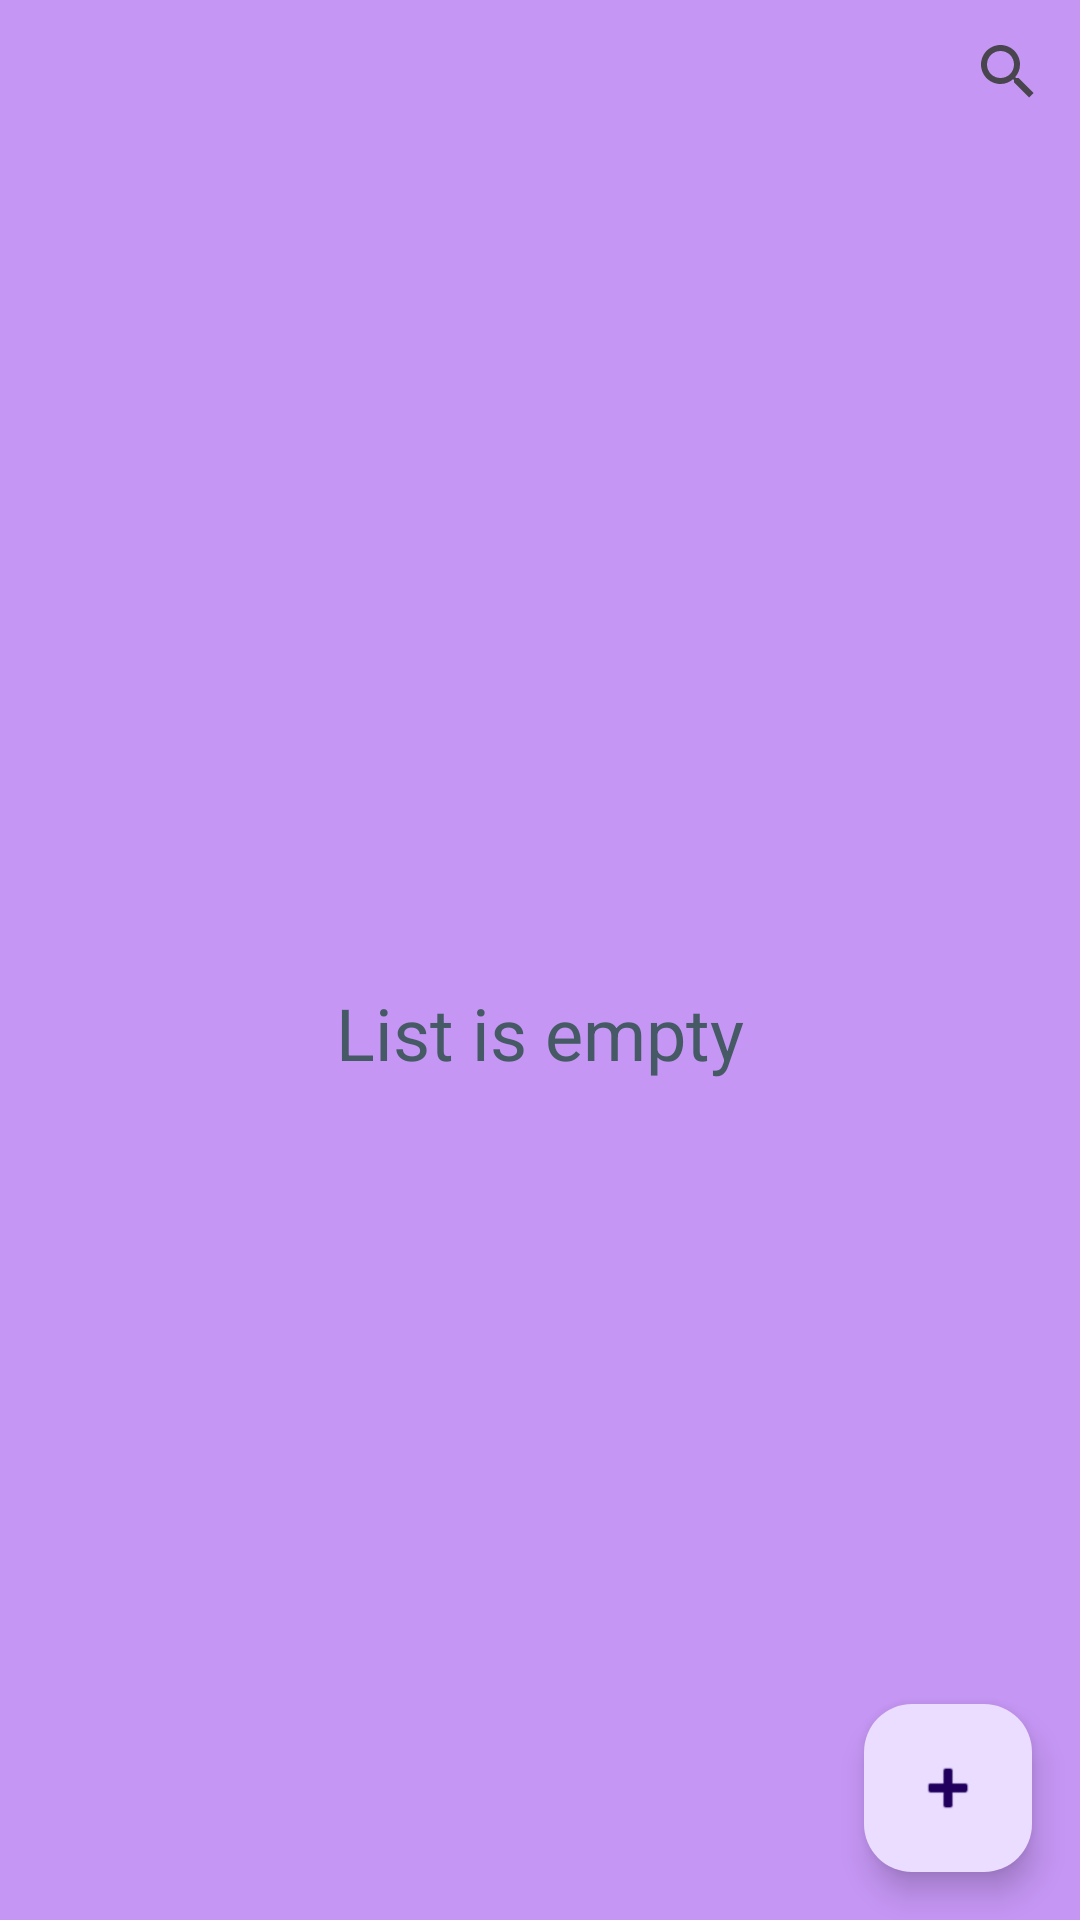

Where icons sit on this 1080 × 1920 app screen, as [x1=x1, y1=y1, x2=x2, y2=y2]:
create new note: [x1=864, y1=1704, x2=1032, y2=1872]
